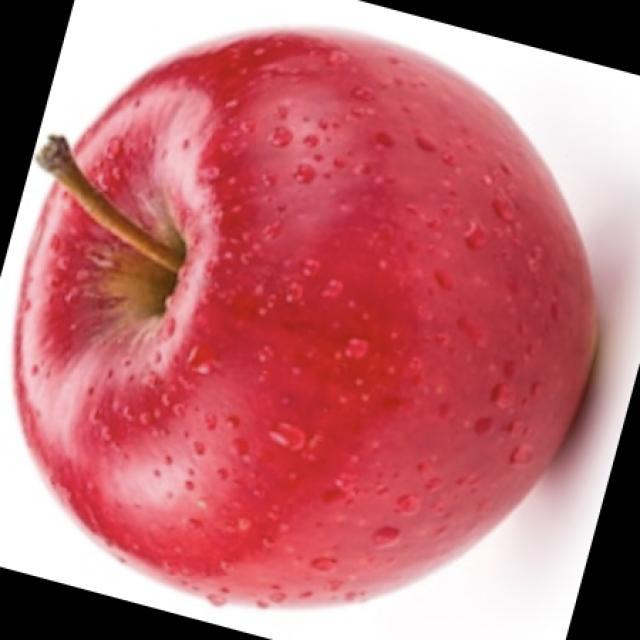Fresh Apple: (10, 40, 578, 625)
